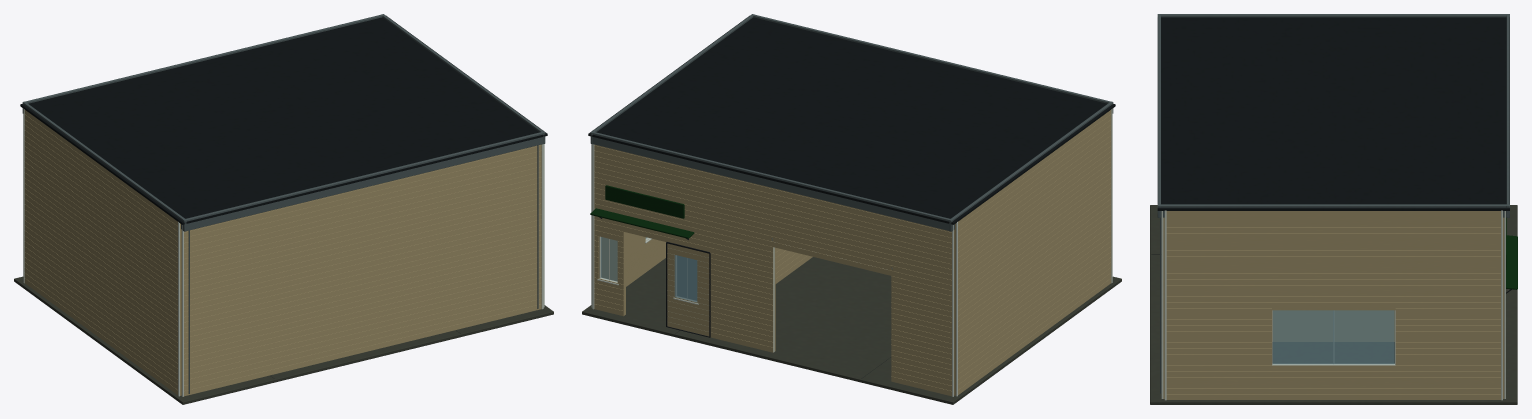
The model's file is SmallOffice.gltf.
The picture shows the model from 3 angles, left to right: view 1: azimuth 30°, elevation 25°; view 2: azimuth 150°, elevation 25°; view 3: azimuth 270°, elevation 25°; orthographic projection. The views are drawn at different scales.
Parts seen in each view (by area): view 1: SmallOffice__Body, SmallOffice__Roof, SmallOffice__Floor; view 2: SmallOffice__Body, SmallOffice__Roof, SmallOffice__Floor, SmallOffice, SmallOffice__Glass_Door, SmallOffice__Glass_OfficeFront1, SmallOffice__Glass_OfficeFront2, SmallOffice__Door; view 3: SmallOffice__Roof, SmallOffice__Body, SmallOffice__Floor, SmallOffice__Glass_OfficeSide, SmallOffice, SmallOffice__Walls.
Boxes of the visible parts, x1=… form: SmallOffice__Body: x1=22, y1=14, x2=545, y2=396; SmallOffice__Roof: x1=20, y1=15, x2=547, y2=224; SmallOffice__Floor: x1=14, y1=276, x2=553, y2=404; SmallOffice__Body: x1=590, y1=14, x2=1113, y2=396; SmallOffice__Roof: x1=588, y1=15, x2=1115, y2=224; SmallOffice__Floor: x1=582, y1=257, x2=1121, y2=404; SmallOffice: x1=599, y1=223, x2=955, y2=395; SmallOffice__Glass_Door: x1=669, y1=254, x2=708, y2=330; SmallOffice__Glass_OfficeFront1: x1=677, y1=256, x2=696, y2=300; SmallOffice__Glass_OfficeFront2: x1=601, y1=237, x2=617, y2=281; SmallOffice__Door: x1=666, y1=242, x2=710, y2=337; SmallOffice__Roof: x1=1157, y1=17, x2=1509, y2=210; SmallOffice__Body: x1=1151, y1=14, x2=1517, y2=400; SmallOffice__Floor: x1=1150, y1=205, x2=1517, y2=404; SmallOffice__Glass_OfficeSide: x1=1273, y1=310, x2=1394, y2=364; SmallOffice: x1=1272, y1=217, x2=1504, y2=398; SmallOffice__Walls: x1=1163, y1=217, x2=1164, y2=398.
Size of the model in its own units: 10.56 by 4.91 by 8.32.
2 materials, 1 textured.
